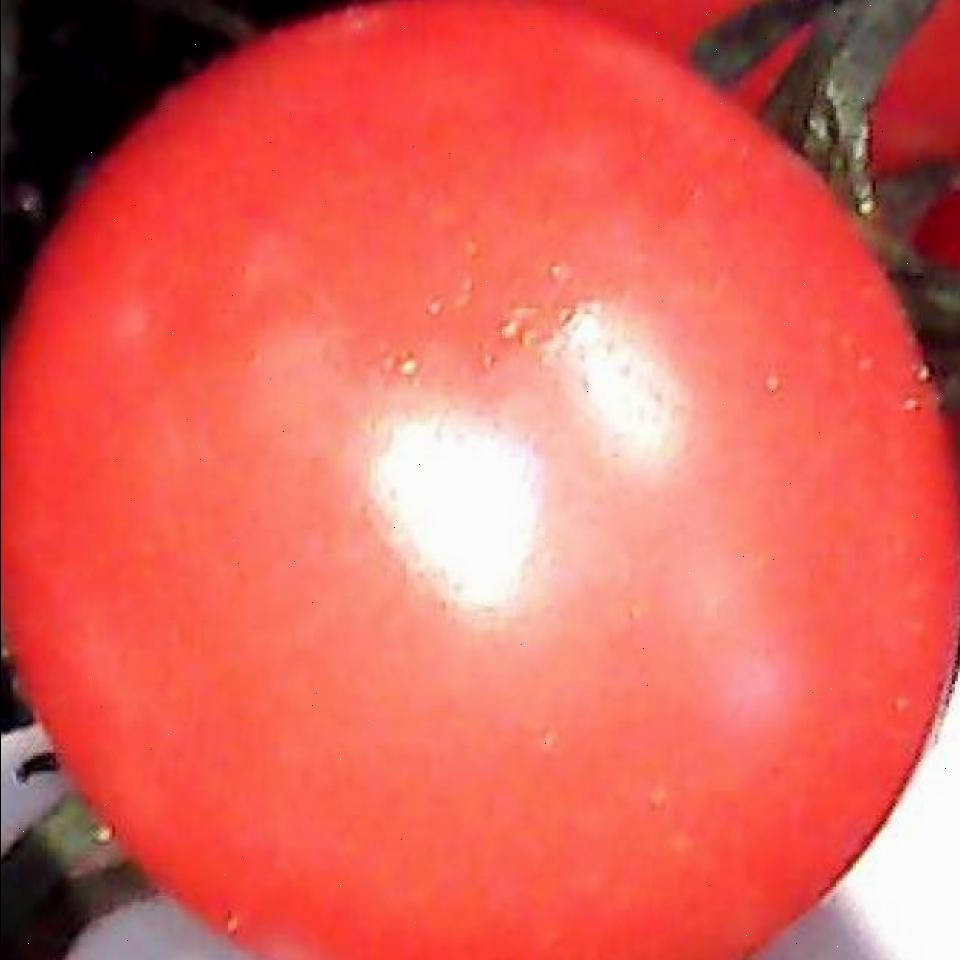Healthy: (9, 40, 936, 941)
